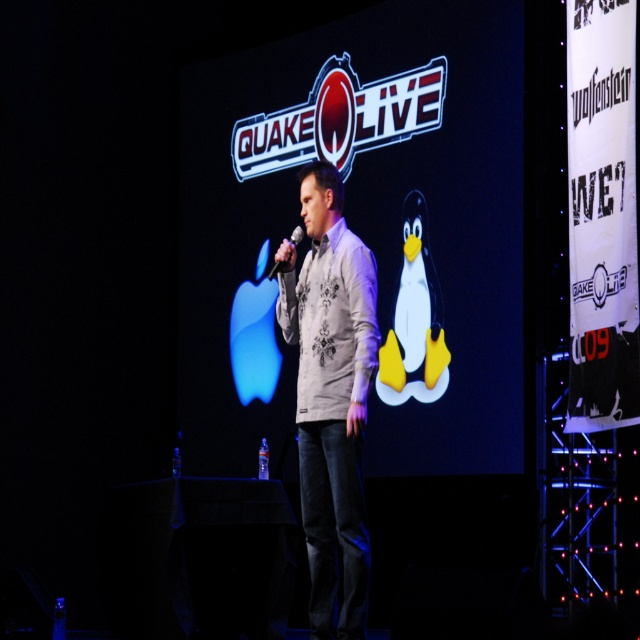Penguin: (387, 194, 448, 413)
